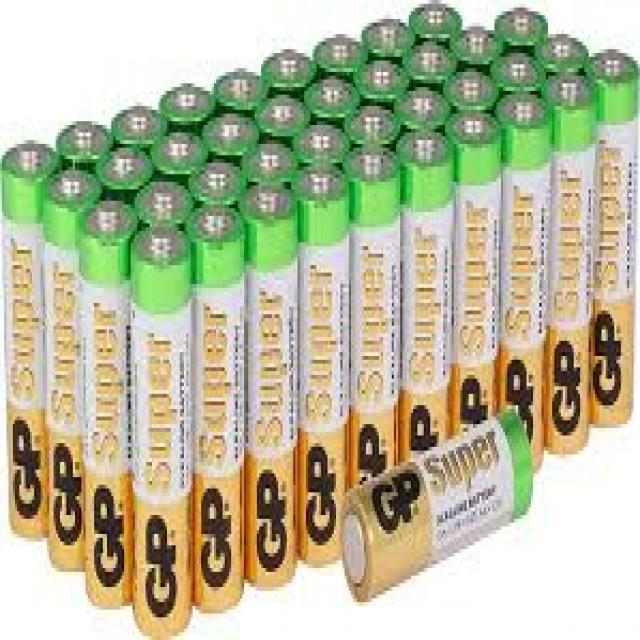non-organic waste: (336, 409, 539, 599), (283, 162, 352, 567), (183, 201, 248, 616), (129, 220, 191, 636), (240, 182, 302, 588), (43, 165, 104, 562), (77, 195, 132, 611), (496, 87, 553, 474), (338, 149, 401, 499), (1, 142, 56, 537), (584, 46, 640, 426), (541, 72, 593, 460), (442, 107, 500, 448), (396, 132, 454, 467)
